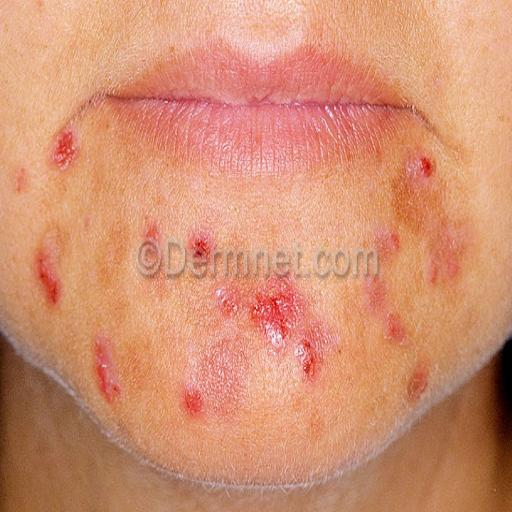Skin_Lesion: (221, 278, 299, 339), (179, 338, 233, 426), (365, 270, 411, 354), (25, 251, 83, 312), (425, 224, 473, 289), (88, 338, 123, 401), (42, 125, 84, 177), (411, 140, 441, 200), (185, 226, 219, 274), (135, 214, 167, 252), (301, 339, 324, 390), (408, 358, 428, 408), (378, 228, 405, 258)
